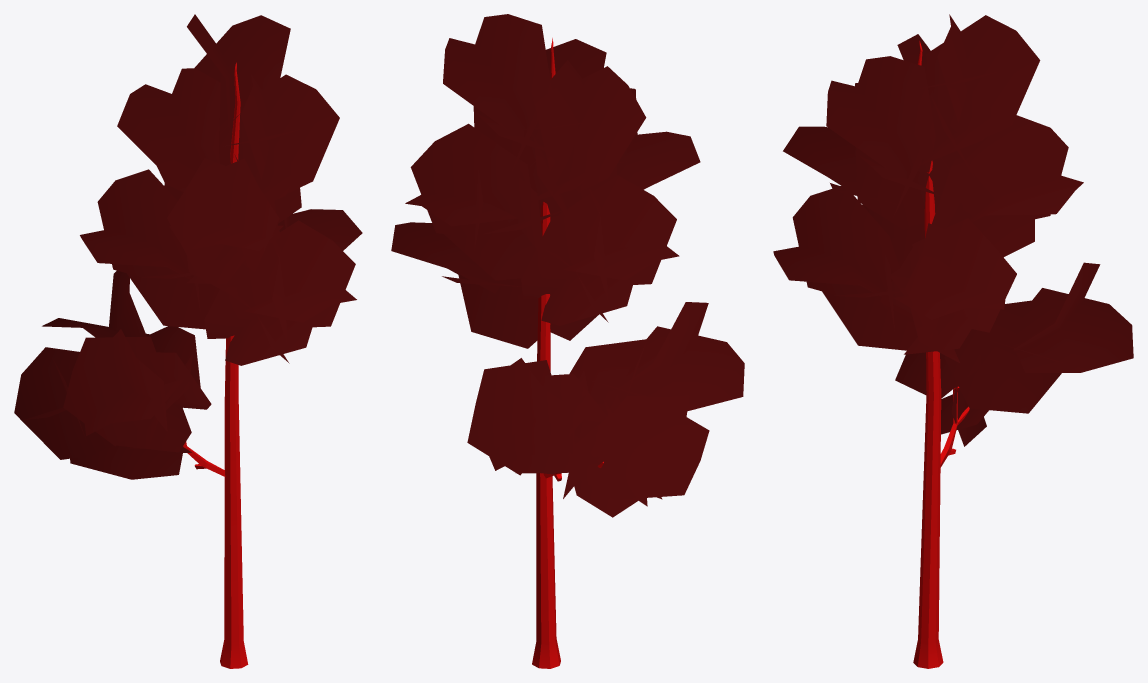
File: SM_Tree_Birch_04.gltf
3 views of the same model, side by side, from view 1: azimuth 30°, elevation 25°; view 2: azimuth 150°, elevation 25°; view 3: azimuth 270°, elevation 25° (orthographic). The views are drawn at different scales.
Visible parts, largest first — view 1: SM_Tree_Birch_04; view 2: SM_Tree_Birch_04; view 3: SM_Tree_Birch_04.
Boxes of the visible parts, bbox=[...] form: SM_Tree_Birch_04: bbox=[14, 14, 362, 668]; SM_Tree_Birch_04: bbox=[391, 14, 744, 668]; SM_Tree_Birch_04: bbox=[773, 14, 1133, 668].
Size of the model in its own units: 2.52 by 4.89 by 2.46.
